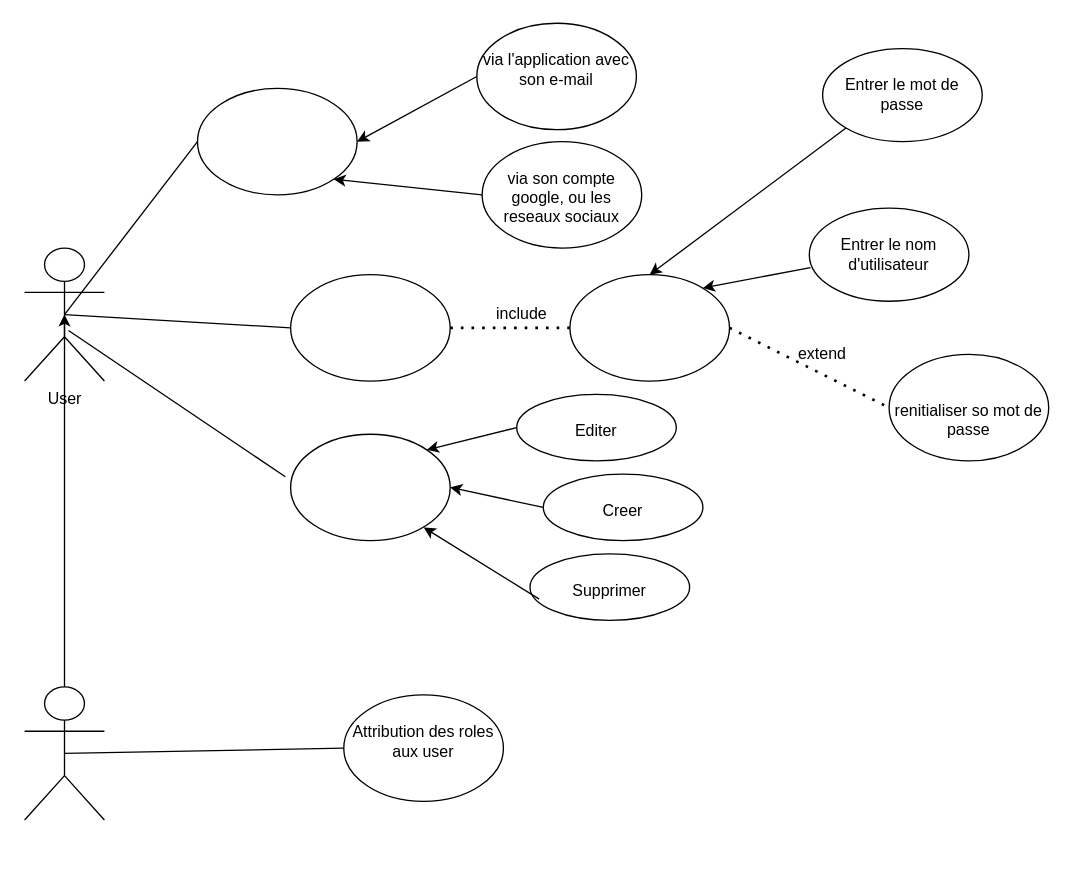
This 1072x871 diagram has some shape labels left out. The shapes that lost their labels are listed below. From the top down, each one's centre as x and y in pixels, then its label:
At (276,141): "Creer un compte".
At (369,327): "se connecter".
At (649,327): "s'authentifier".
At (369,487): "Gestion du profil".
At (63,753): "Proprietaire".
